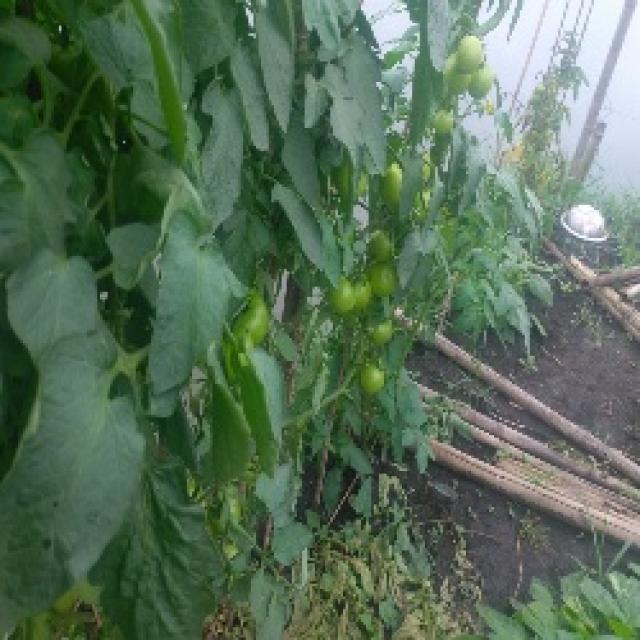tomato: (327, 276, 363, 324), (368, 263, 400, 309), (242, 294, 272, 341), (360, 355, 393, 397), (380, 164, 409, 208), (447, 58, 475, 99), (351, 271, 376, 316), (472, 67, 499, 108), (368, 311, 398, 346), (457, 38, 483, 71), (368, 239, 394, 267), (433, 109, 450, 136)
